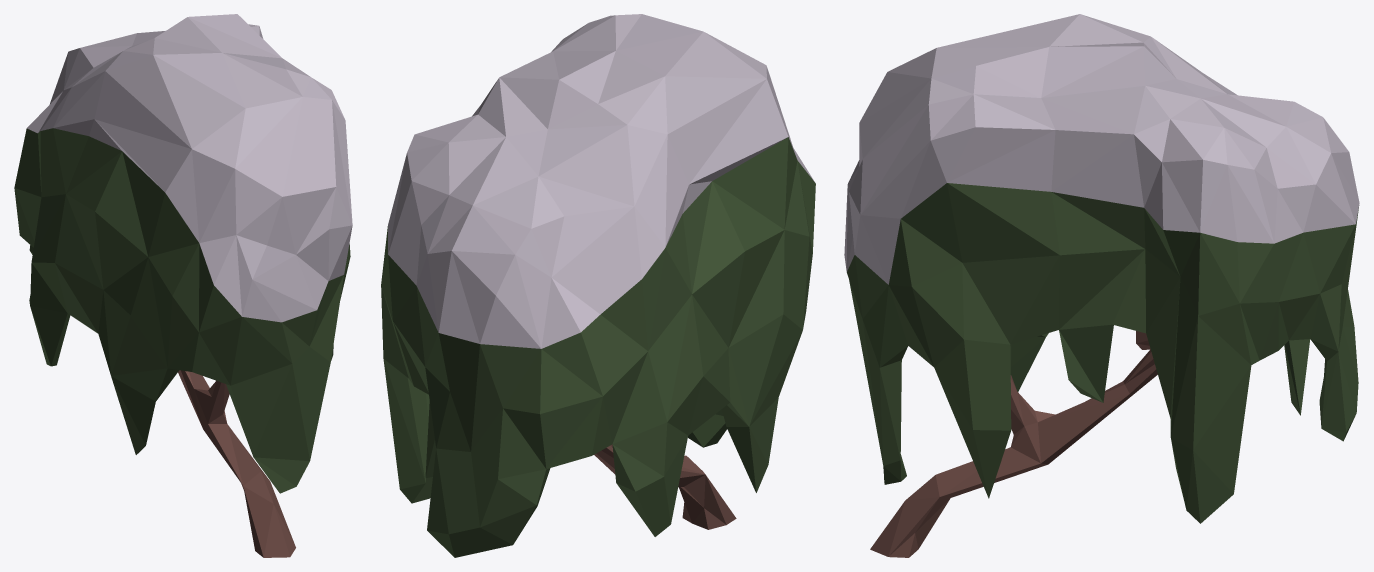
The model's file is Willow_Snow_2.lod2.glb.
3 renders of one model, left to right at view 1: azimuth 30°, elevation 25°; view 2: azimuth 150°, elevation 25°; view 3: azimuth 270°, elevation 25°, orthographic. The views are drawn at different scales.
Parts seen in each view (by area): view 1: Willow_Snow_2; view 2: Willow_Snow_2; view 3: Willow_Snow_2.
Part boxes in pixels (x1,y1,x2,y2): Willow_Snow_2: [14, 14, 352, 557]; Willow_Snow_2: [381, 14, 815, 557]; Willow_Snow_2: [844, 14, 1359, 557].
Size of the model in its own units: 1.94 by 3.45 by 3.14.
